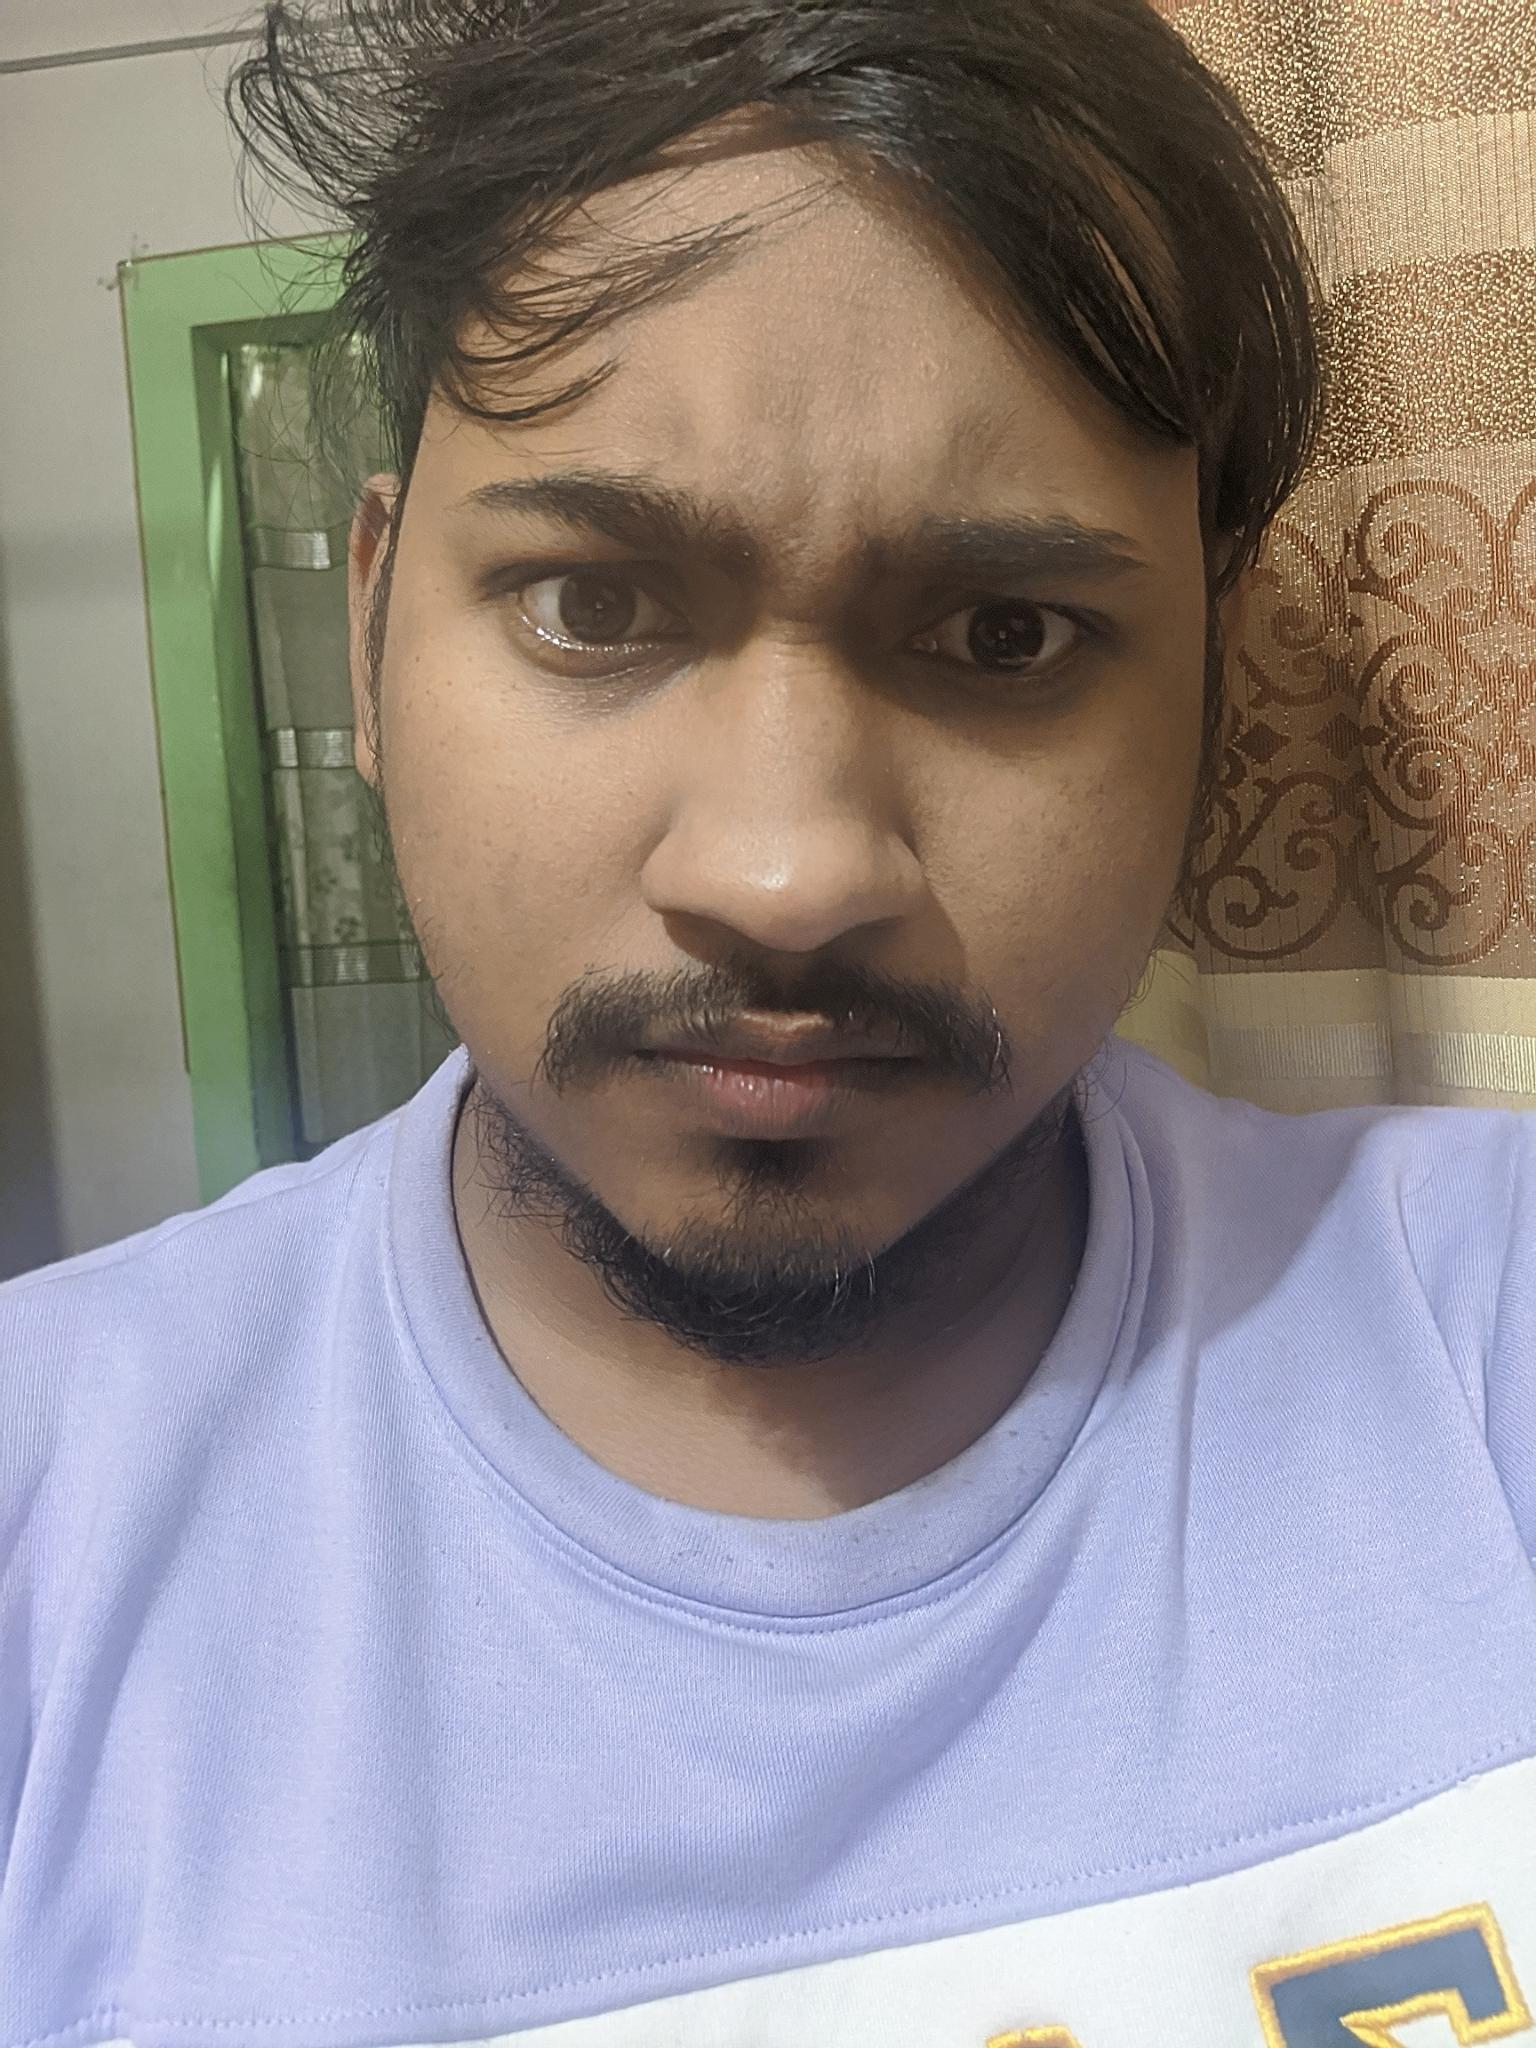Angry: (379, 276, 1223, 1293)
